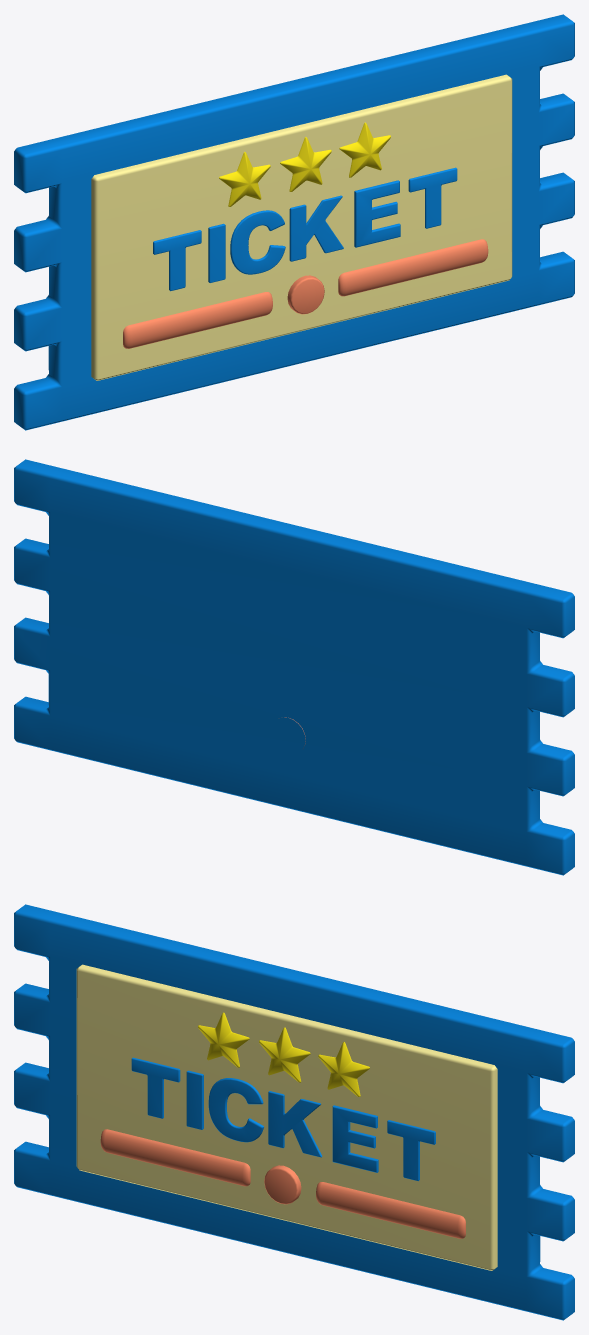
File: Public_12_Theatre_Ticket_1.glb
3 views of the same model, one above another, from view 1: azimuth 30°, elevation 25°; view 2: azimuth 150°, elevation 25°; view 3: azimuth 330°, elevation 25° (orthographic).
Parts seen in each view (by area): view 1: Public_12_Theatre_Ticket_1; view 2: Public_12_Theatre_Ticket_1; view 3: Public_12_Theatre_Ticket_1.
Part boxes in pixels (box(x1,y1,x2,y2)): Public_12_Theatre_Ticket_1: box(14, 14, 574, 430); Public_12_Theatre_Ticket_1: box(14, 459, 574, 875); Public_12_Theatre_Ticket_1: box(14, 904, 574, 1320).
Bounding box in the file's own units: 2.19 × 1.05 × 0.1513.
Materials: 1 (1 with a texture image).
